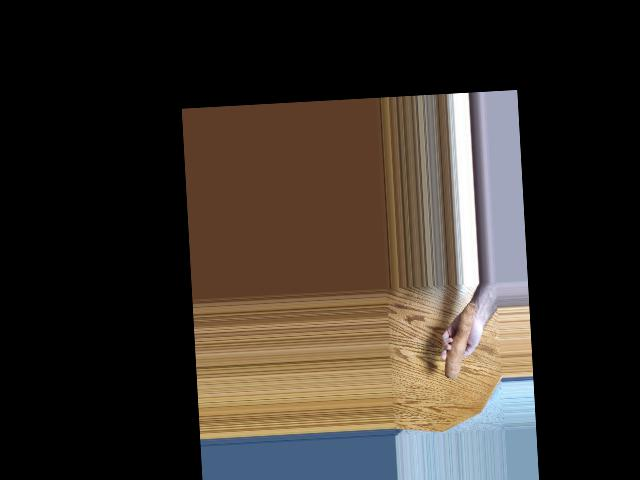sweet_potato: (439, 304, 479, 380)
